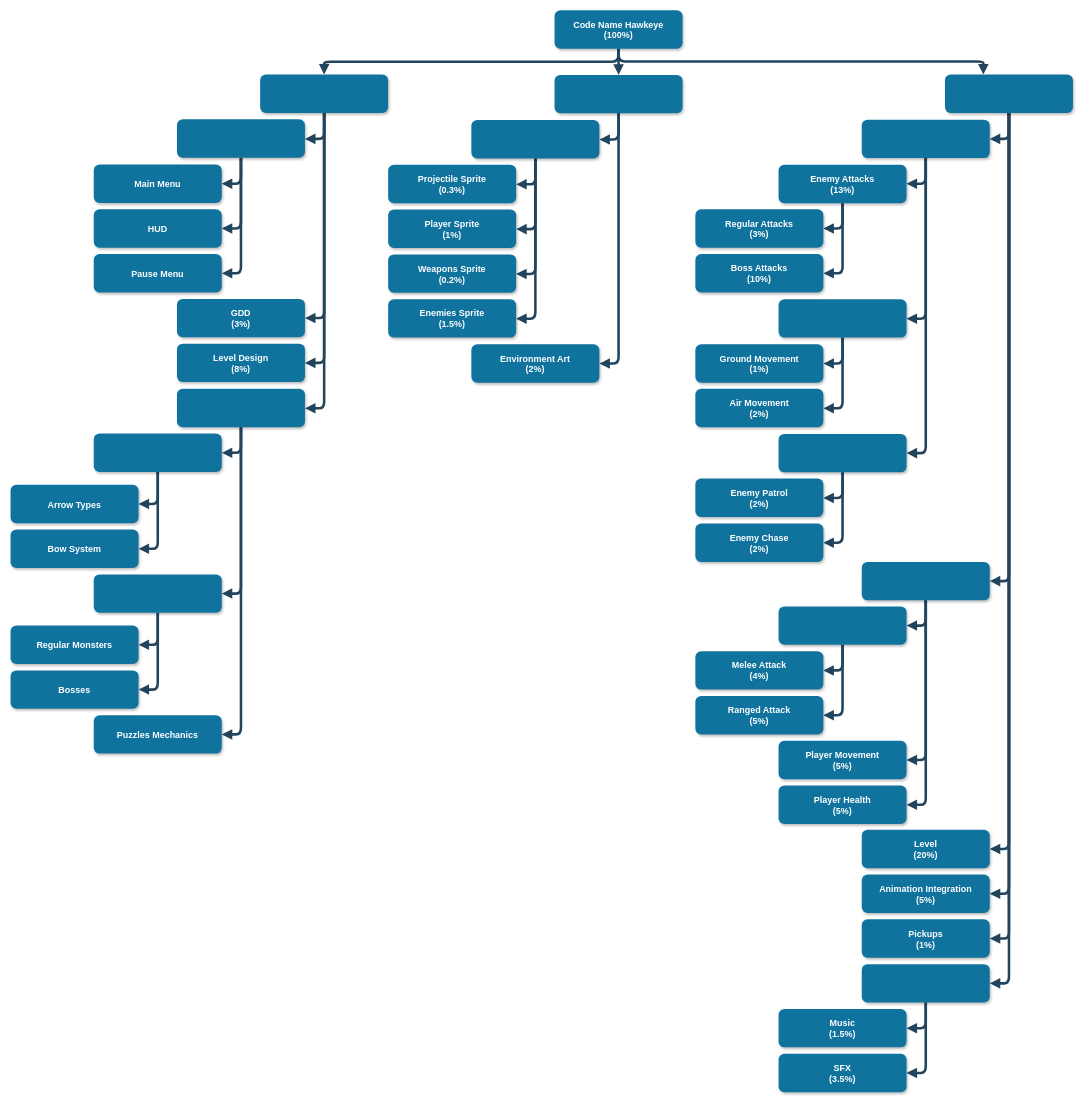
The diagram is 1084 pixels wide and 1103 high, and some of its shapes have lost their labels. Here are the shapes that lost their labels. From the top down, the centre of each, then its label:
pixel 324 94: Design (25%)
pixel 619 94: Art (5%)
pixel 1009 94: Code (70%)
pixel 241 139: Game UI (2%)
pixel 535 140: Character Art (3%)
pixel 926 139: Enemies (20%)
pixel 843 319: Enemy Movement (3%)
pixel 241 408: Gameplay (12%)
pixel 158 453: Player Mechanics
pixel 843 453: Enemy AI (4%)
pixel 158 594: Monsters Mechanics
pixel 926 581: Player (19%)
pixel 843 626: Player Combat (9%)
pixel 926 984: Audio (5%)
